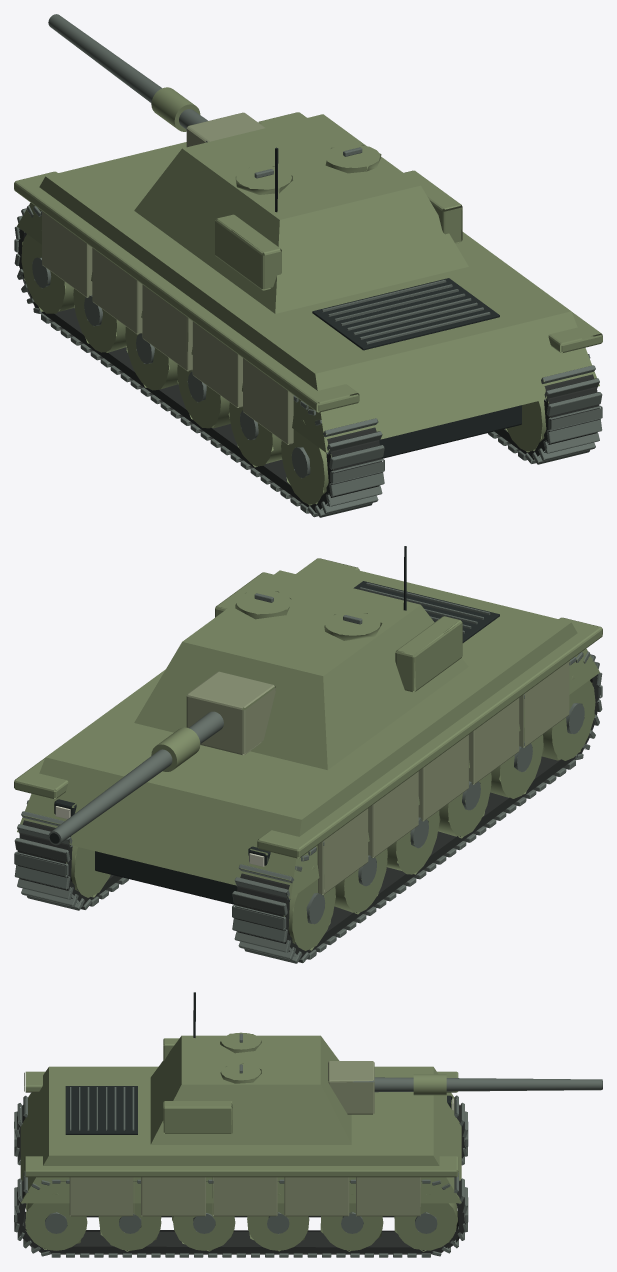
File: tank.glb
3 renders of one model, top to bottom at view 1: azimuth 30°, elevation 25°; view 2: azimuth 150°, elevation 25°; view 3: azimuth 270°, elevation 25°, orthographic. The views are drawn at different scales.
Parts seen in each view (by area): view 1: static.olive painted metal, static.dark exterior metal, static.edge and panel paint, static.recess shadow, static.rubber and track pads; view 2: static.olive painted metal, static.edge and panel paint, static.dark exterior metal, static.rubber and track pads, static.recess shadow; view 3: static.olive painted metal, static.edge and panel paint, static.dark exterior metal, static.rubber and track pads, static.recess shadow.
Part boxes in pixels (x1=…): static.olive painted metal: x1=14, y1=87, x2=602, y2=505; static.dark exterior metal: x1=14, y1=14, x2=602, y2=517; static.edge and panel paint: x1=42, y1=112, x2=293, y2=444; static.recess shadow: x1=275, y1=147, x2=521, y2=458; static.rubber and track pads: x1=17, y1=228, x2=599, y2=512; static.olive painted metal: x1=14, y1=558, x2=602, y2=950; static.edge and panel paint: x1=186, y1=661, x2=569, y2=894; static.dark exterior metal: x1=14, y1=582, x2=602, y2=963; static.rubber and track pads: x1=17, y1=674, x2=599, y2=958; static.recess shadow: x1=49, y1=546, x2=499, y2=904; static.olive painted metal: x1=20, y1=1032, x2=461, y2=1251; static.edge and panel paint: x1=69, y1=1061, x2=420, y2=1216; static.dark exterior metal: x1=14, y1=1033, x2=602, y2=1257; static.rubber and track pads: x1=16, y1=1105, x2=465, y2=1254; static.recess shadow: x1=65, y1=992, x2=602, y2=1217.
Bounding box in the file's own units: 3.8 × 3.49 × 9.5.
